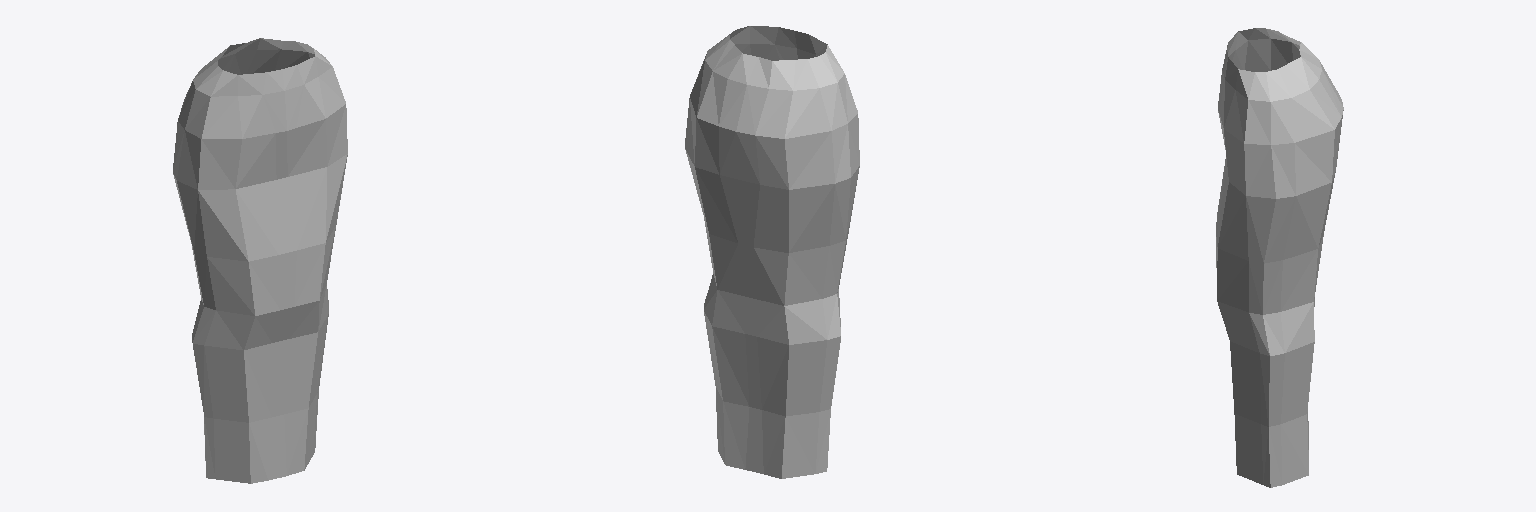
The model's file is avatar_skirt-skirt_basemesh13Parallel.obj.
3 renders of one model, left to right at view 1: azimuth 30°, elevation 25°; view 2: azimuth 150°, elevation 25°; view 3: azimuth 270°, elevation 25°, orthographic.
Parts seen in each view (by area): view 1: g1_avatar_skirt; view 2: g1_avatar_skirt; view 3: g1_avatar_skirt.
Boxes of the visible parts, <box> form: g1_avatar_skirt: <box>173,38,347,483</box>; g1_avatar_skirt: <box>685,26,859,478</box>; g1_avatar_skirt: <box>1216,28,1343,487</box>.
Bounding box in the file's own units: 0.4622 × 1.12 × 0.3148.